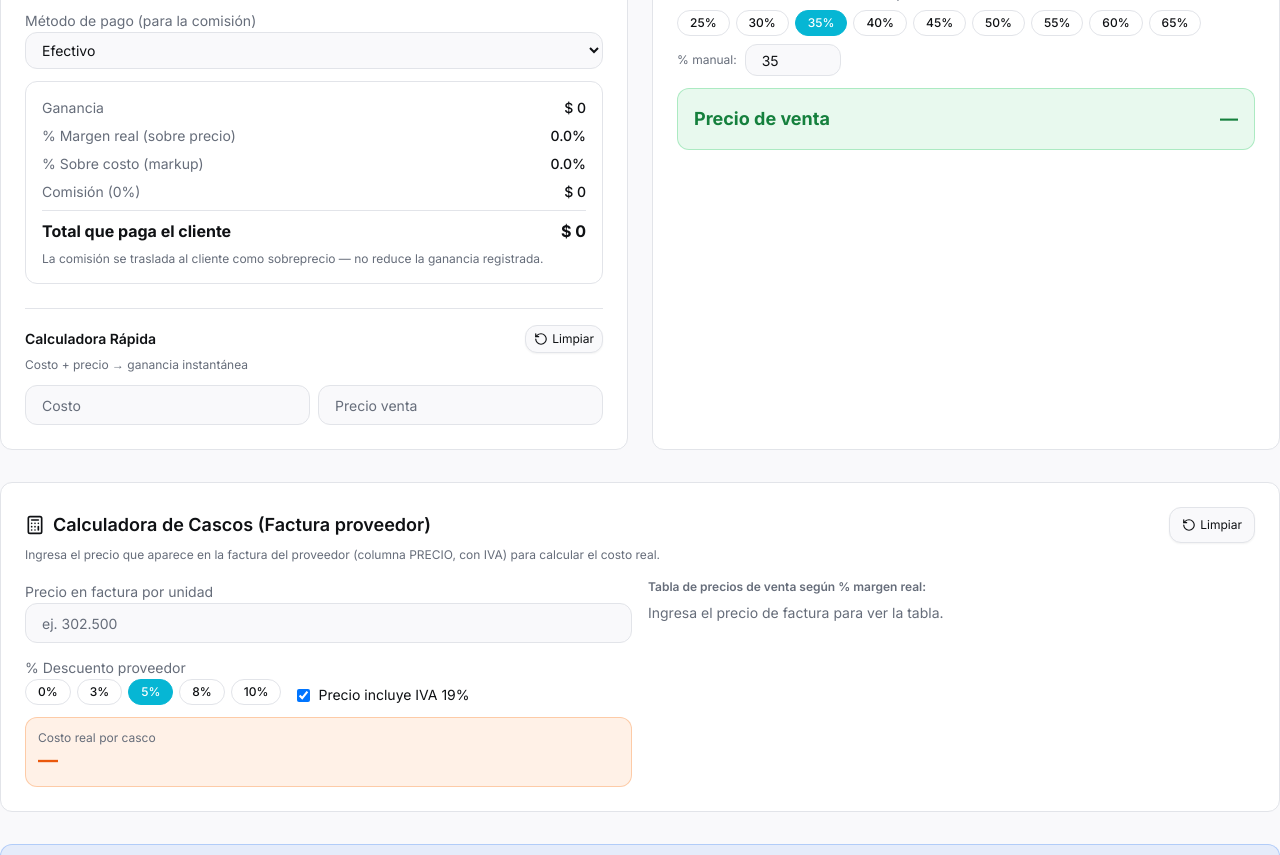
Test: Calculadora — Calculadora Rápida › alerta pérdida cuando el precio de venta es menor al costo
(page scrolled)
Step 1. Type "100000" into the field with placeholder "Costo" → coordinates (168, 405), box [25, 385, 310, 425]
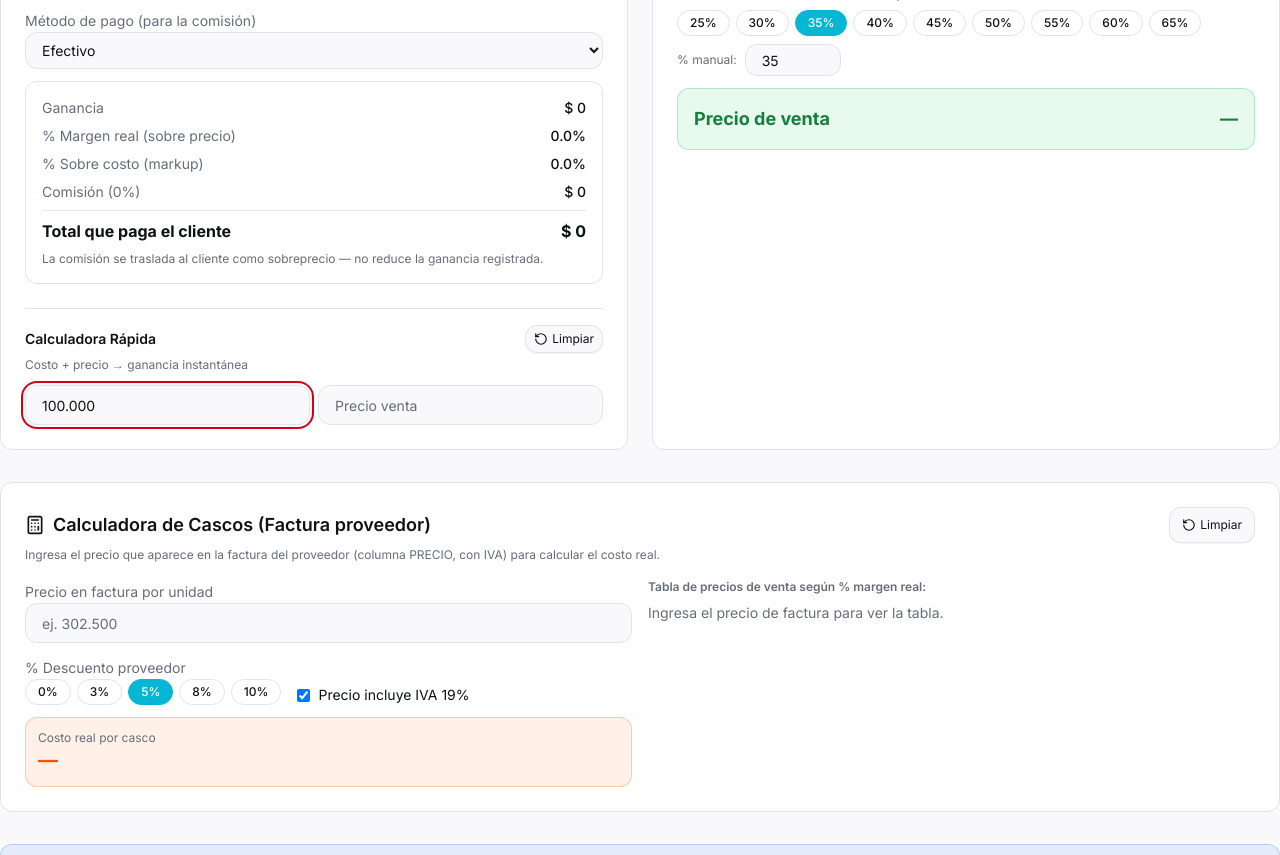
Step 2. Type "80000" into the field with placeholder "Precio venta" → coordinates (460, 405), box [318, 385, 603, 425]
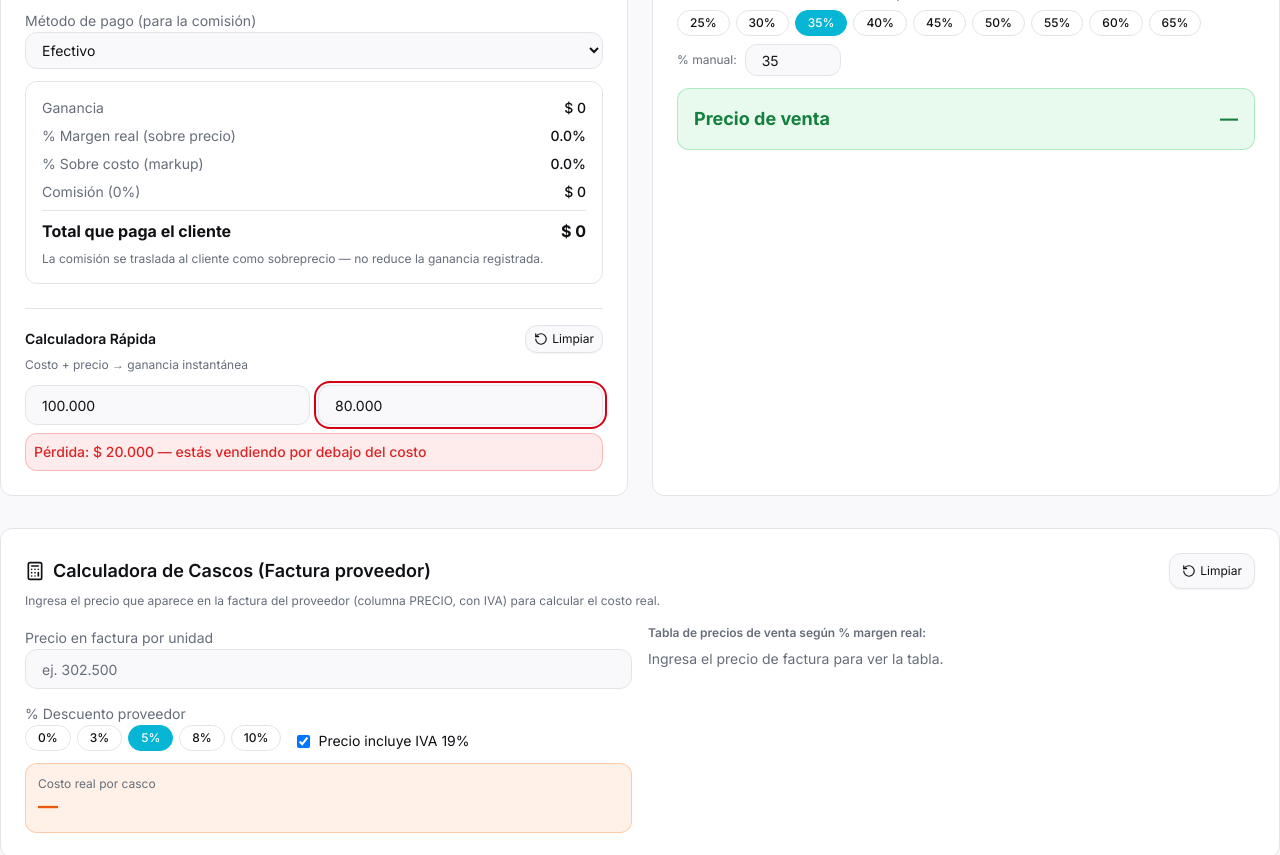
Check: the text "Pérdida: $ 20.000 — estás vendiendo por debajo del costo" is shown, box [25, 433, 603, 471]
